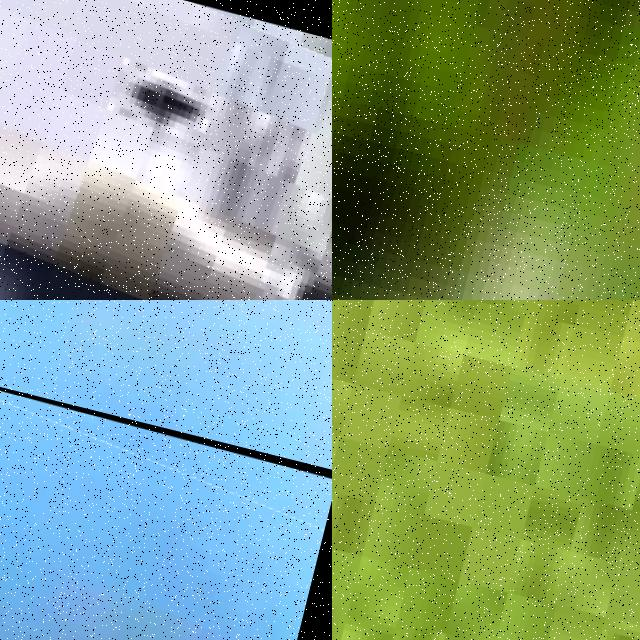0: (0, 0, 332, 300)
drone: (0, 327, 332, 640)
